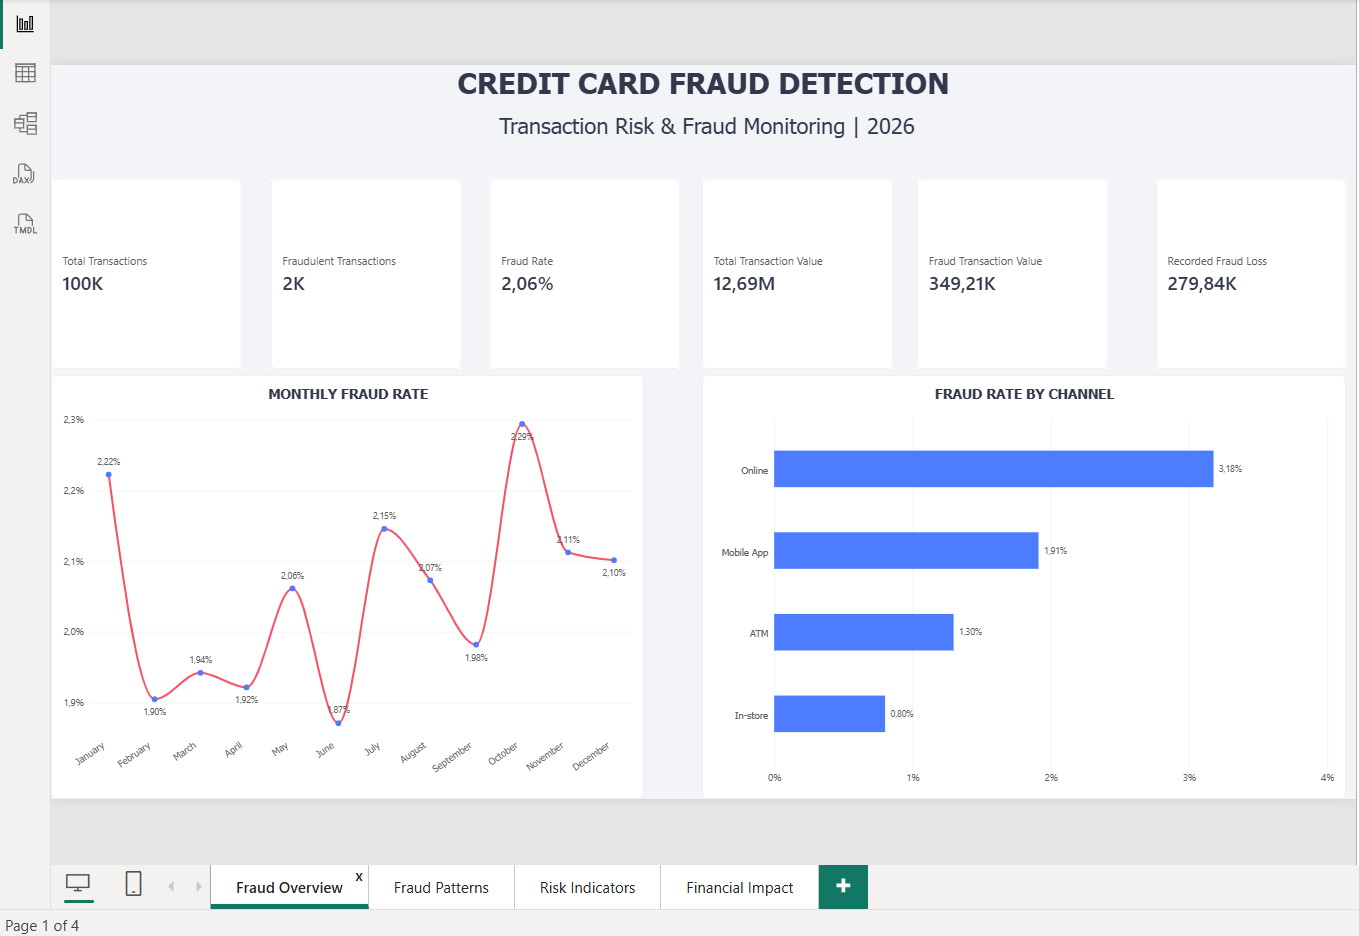

The page's visual inventory and layout, read from the dashboard file:
{"tool":"powerbi","page":{"name":"Fraud Overview","canvas":[1920,1080],"ordinal":0},"visuals":[{"type":"cardVisual","fields":{"Data":["Transactions.Total Transactions"]},"box":[0,167.5,280,280],"z":0},{"type":"cardVisual","fields":{"Data":["Transactions.Fraud Transaction Value"]},"box":[1274.1,166.7,280,280],"z":1},{"type":"cardVisual","fields":{"Data":["Transactions.Fraud Rate"]},"box":[646.3,166.7,280,280],"z":2},{"type":"cardVisual","fields":{"Data":["Transactions.Total Transaction Value"]},"box":[959.2,166.7,280,280],"z":3},{"type":"cardVisual","fields":{"Data":["Transactions.Fraudulent Transactions"]},"box":[323.2,166.7,280,280],"z":4},{"type":"cardVisual","fields":{"Data":["Transactions.Recorded Fraud Loss"]},"box":[1626.1,166.7,280,280],"z":5},{"type":"textbox","box":[0,0,1920.4,133.8],"z":6},{"type":"lineChart","title":"MONTHLY FRAUD RATE","fields":{"Category":["Transactions.transaction_month_name"],"Y":["Transactions.Fraud Rate"]},"box":[0,456.9,872.7,623.7],"z":7},{"type":"barChart","title":"FRAUD RATE BY CHANNEL","fields":{"Category":["Transactions.transaction_channel"],"Y":["Transactions.Fraud Rate"]},"box":[959.2,456.9,946.8,623.7],"z":8}]}

Visuals, with their boxes on the page's 1920x1080 design canvas (x1, y1, x2, y2). These are canvas units, not pixel positions in the 1359x936 screenshot, which may show the page scaled, cropped or inside an application window:
cardVisual - Transactions.Total Transactions: Rect(0, 168, 280, 448)
cardVisual - Transactions.Fraud Transaction Value: Rect(1274, 167, 1554, 447)
cardVisual - Transactions.Fraud Rate: Rect(646, 167, 926, 447)
cardVisual - Transactions.Total Transaction Value: Rect(959, 167, 1239, 447)
cardVisual - Transactions.Fraudulent Transactions: Rect(323, 167, 603, 447)
cardVisual - Transactions.Recorded Fraud Loss: Rect(1626, 167, 1906, 447)
textbox: Rect(0, 0, 1920, 134)
"MONTHLY FRAUD RATE" lineChart: Rect(0, 457, 873, 1081)
"FRAUD RATE BY CHANNEL" barChart: Rect(959, 457, 1906, 1081)
